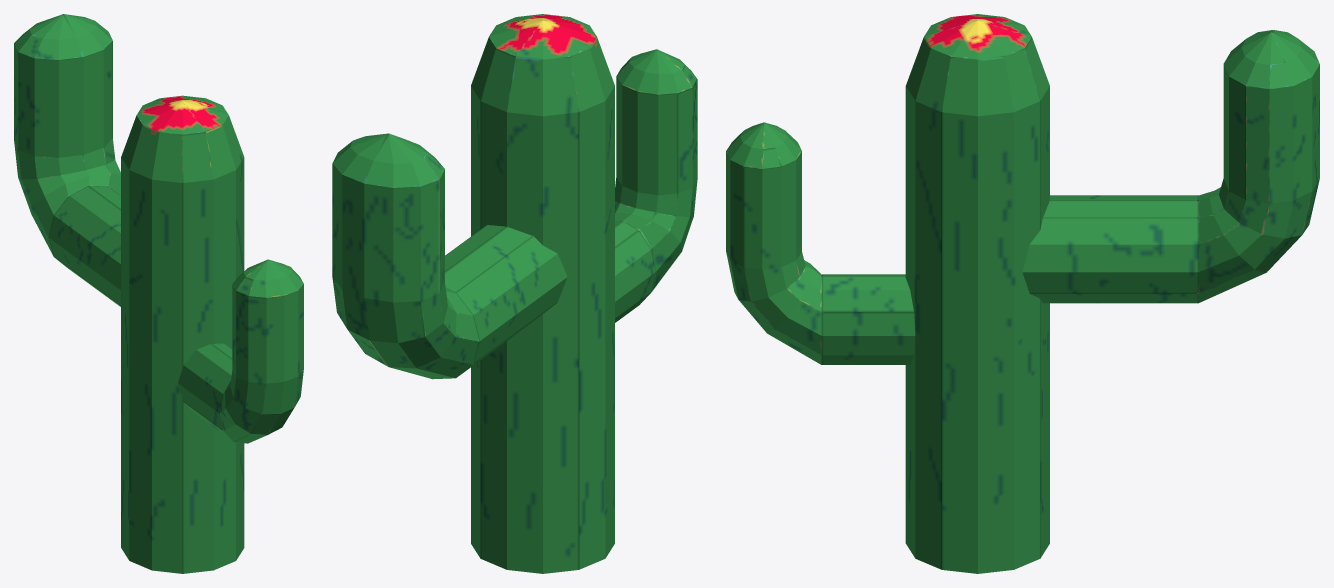
3 views of the same model, side by side, from view 1: azimuth 30°, elevation 25°; view 2: azimuth 150°, elevation 25°; view 3: azimuth 270°, elevation 25° (orthographic). The views are drawn at different scales.
Visible parts, largest first — view 1: cylinder, cylinder_1, cylinder_2; view 2: cylinder, cylinder_1, cylinder_2; view 3: cylinder, cylinder_1, cylinder_2.
Boxes of the visible parts, <box> form: cylinder: <box>121,95,244,573</box>; cylinder_1: <box>14,14,120,306</box>; cylinder_2: <box>178,259,303,443</box>; cylinder: <box>471,14,614,573</box>; cylinder_1: <box>332,133,567,379</box>; cylinder_2: <box>615,49,697,322</box>; cylinder: <box>905,14,1049,573</box>; cylinder_1: <box>1022,30,1319,303</box>; cylinder_2: <box>726,122,915,364</box>.
Bounding box in the file's own units: 50 × 200 × 206.
1 material, 1 textured.
